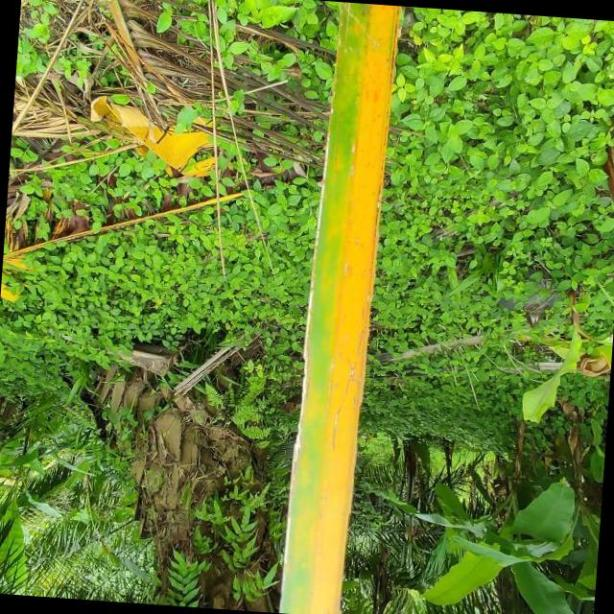Megnesium: (282, 0, 398, 614)
